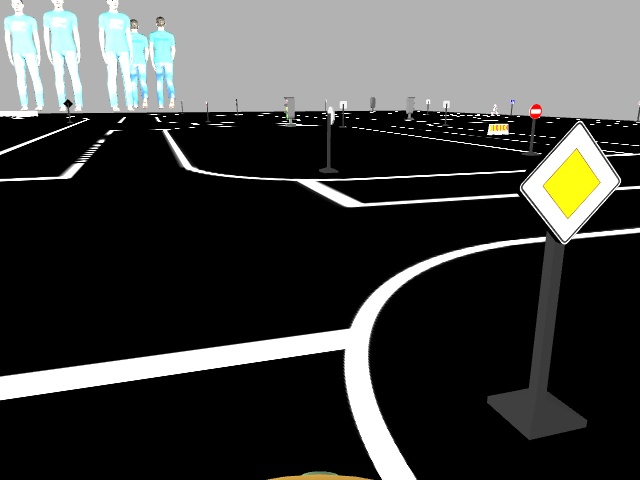Priority: (527, 120, 617, 246)
